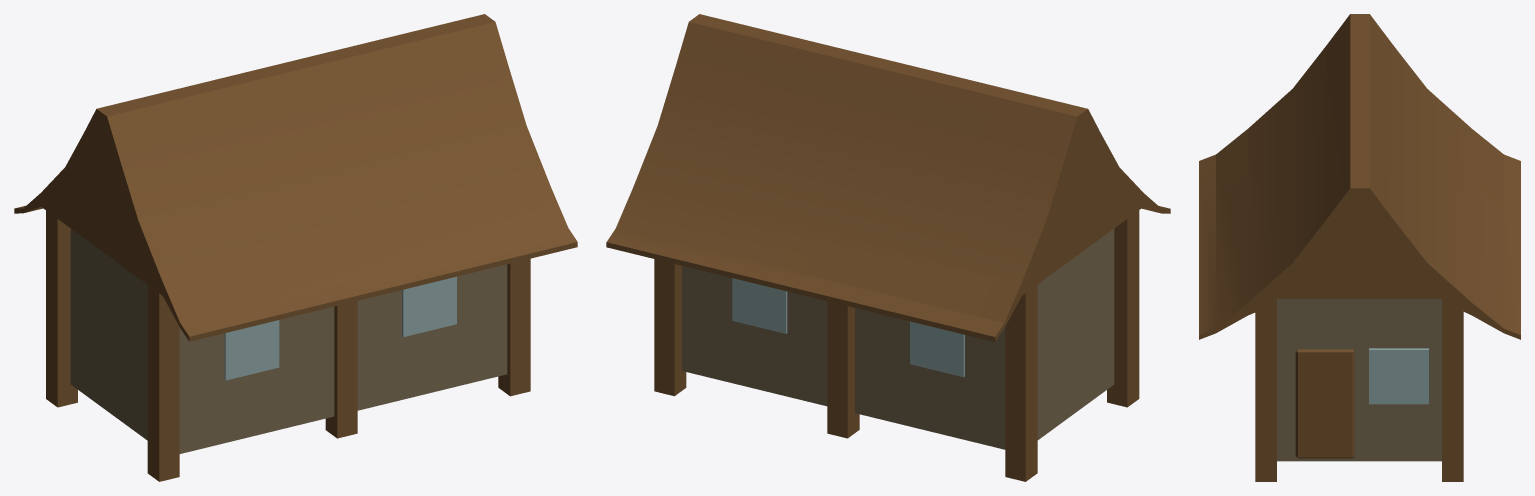
Rendered from Wooden_House.fbx.
3 views of the same model, side by side, from view 1: azimuth 30°, elevation 25°; view 2: azimuth 150°, elevation 25°; view 3: azimuth 270°, elevation 25° (orthographic). The views are drawn at different scales.
Visible parts, largest first — view 1: pasted__pasted__pCube2, pCube1, pasted__pCube2 (×3), pCube2, pasted__pCube3, pasted__pasted__pCube3; view 2: pasted__pasted__pCube2 (×3), pCube1, pasted__pCube2, pCube2, pasted__pCube3, pCube3; view 3: pasted__pasted__pCube2 (×2), pCube1, pasted__pasted__pasted__pCube3 (×2), pasted__pCube2.
Boxes of the visible parts, bbox=[...] form: pasted__pasted__pCube2: bbox=[14, 14, 577, 341]; pCube1: bbox=[70, 229, 507, 453]; pasted__pCube2 (×3): bbox=[46, 210, 530, 438]; pCube2: bbox=[147, 285, 179, 481]; pasted__pCube3: bbox=[224, 320, 279, 380]; pasted__pasted__pCube3: bbox=[402, 276, 456, 337]; pasted__pasted__pCube2 (×3): bbox=[606, 14, 1170, 438]; pCube1: bbox=[682, 228, 1114, 449]; pasted__pCube2: bbox=[1005, 285, 1037, 481]; pCube2: bbox=[1107, 210, 1139, 407]; pasted__pCube3: bbox=[732, 278, 787, 333]; pCube3: bbox=[910, 321, 964, 377]; pasted__pasted__pCube2 (×2): bbox=[1199, 14, 1520, 481]; pCube1: bbox=[1277, 299, 1441, 461]; pasted__pasted__pasted__pCube3 (×2): bbox=[1295, 348, 1428, 458]; pasted__pCube2: bbox=[1255, 299, 1276, 481].
Size of the model in its own units: 14.71 by 11.86 by 11.49.
